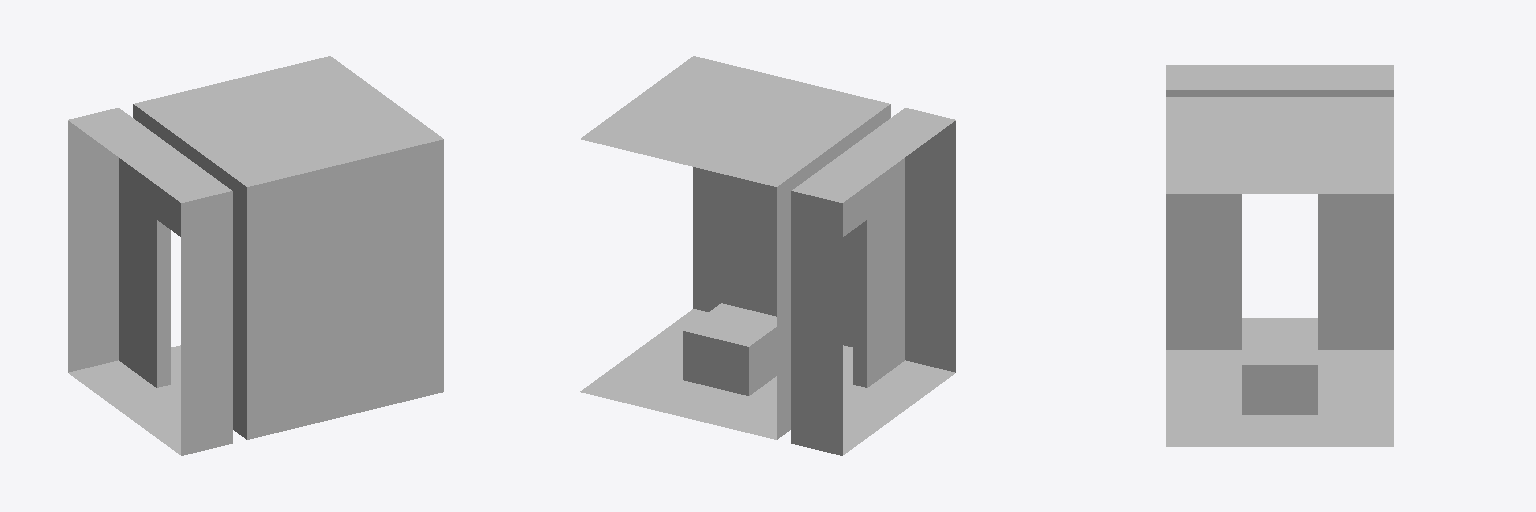
File: old_state.obj
3 renders of one model, left to right at view 1: azimuth 30°, elevation 25°; view 2: azimuth 150°, elevation 25°; view 3: azimuth 270°, elevation 25°, orthographic.
Parts seen in each view (by area): view 1: Old_state; view 2: Old_state; view 3: Old_state.
Boxes of the visible parts, <box> form: Old_state: <box>68,56,443,455</box>; Old_state: <box>580,56,955,455</box>; Old_state: <box>1166,65,1393,446</box>.
Bounding box in the file's own units: 2.67 × 2.45 × 2.